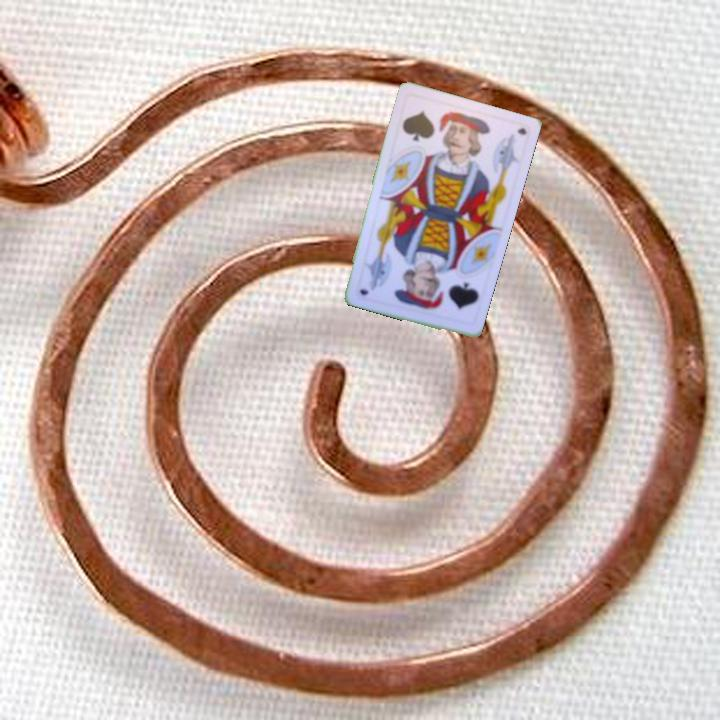s_j.png: (408, 256, 487, 329), (392, 92, 471, 165)
